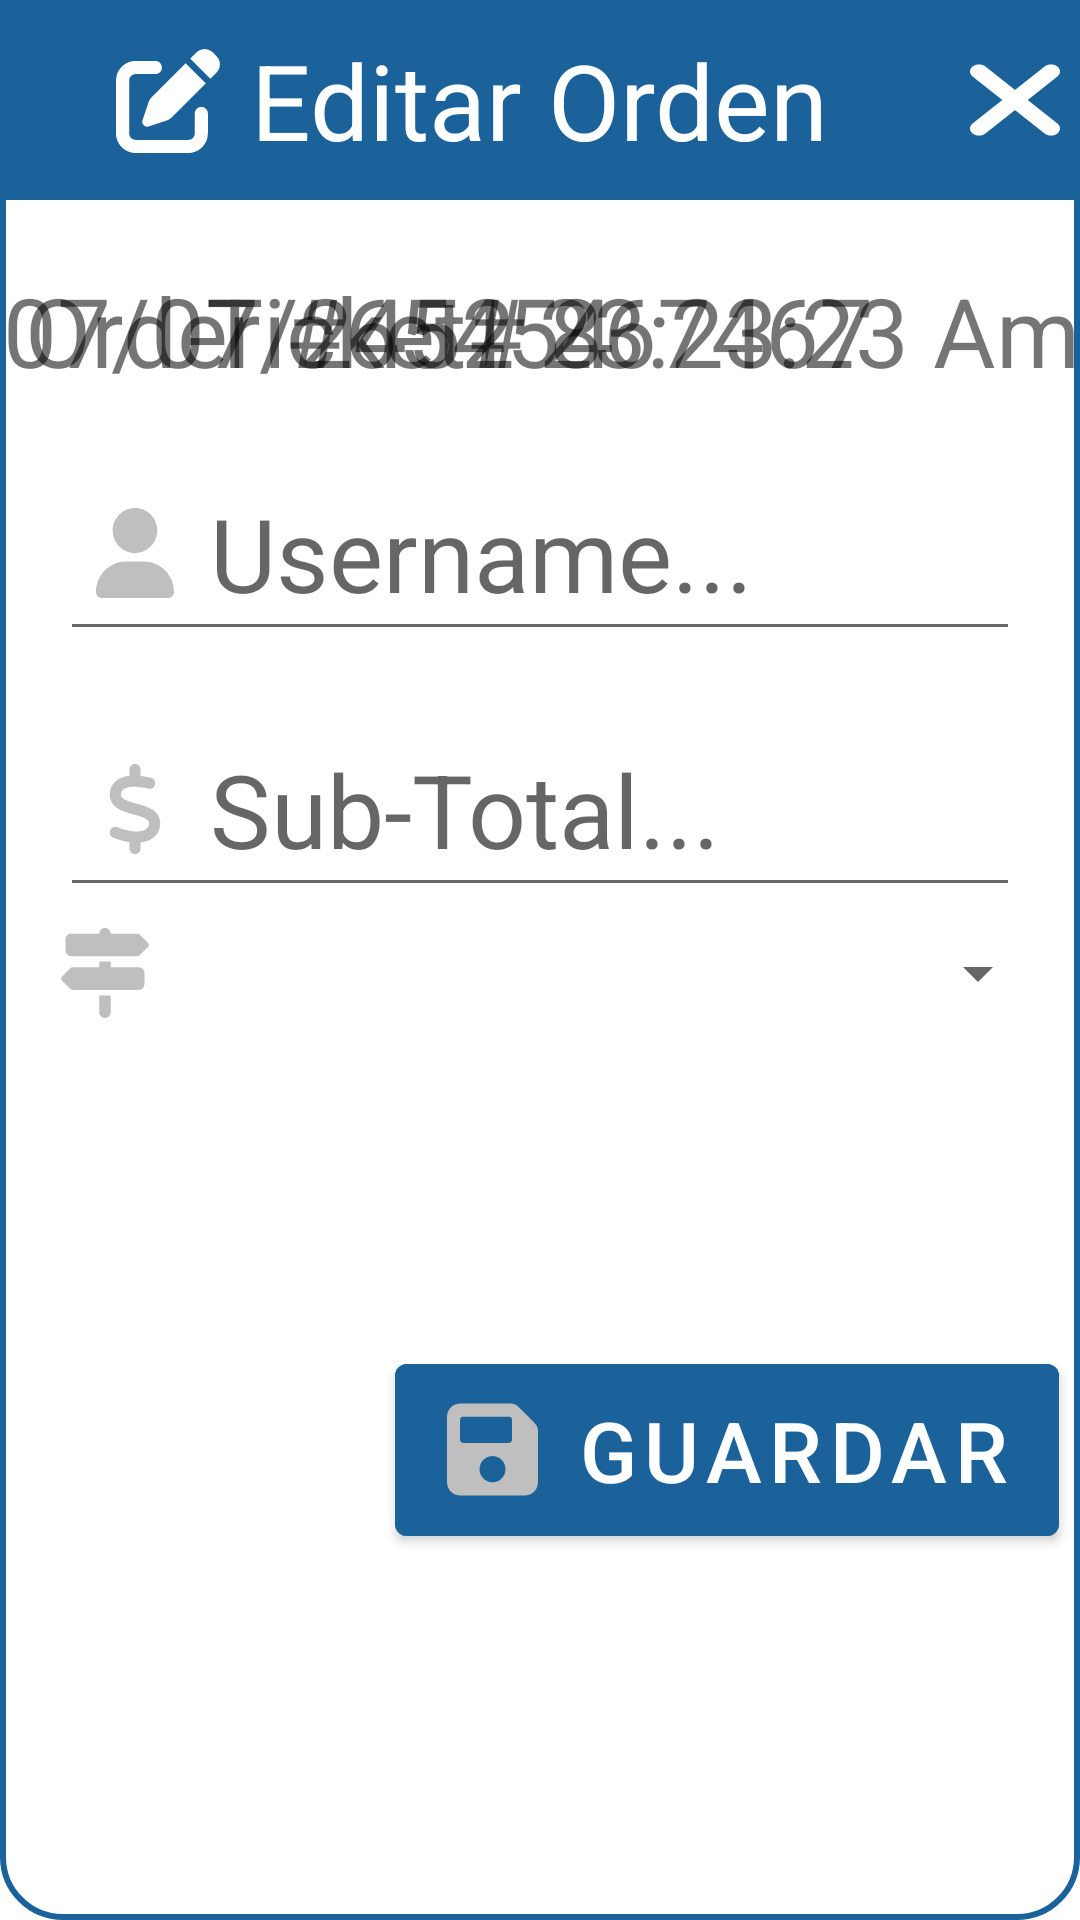

Screen size 1080w x 1920h. Icon name, then its center in pixels as (x,y):
dollar sign: (135,809)
save: (492,1449)
